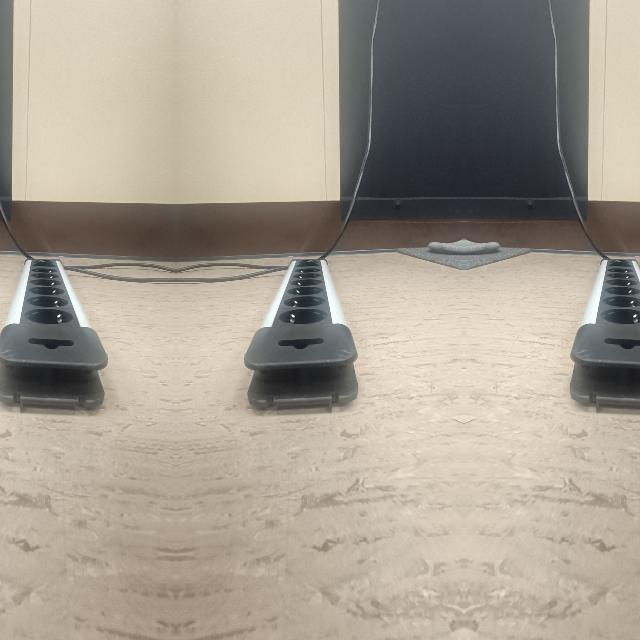obstacle: (255, 255, 355, 415), (0, 255, 95, 415), (572, 255, 640, 415)
